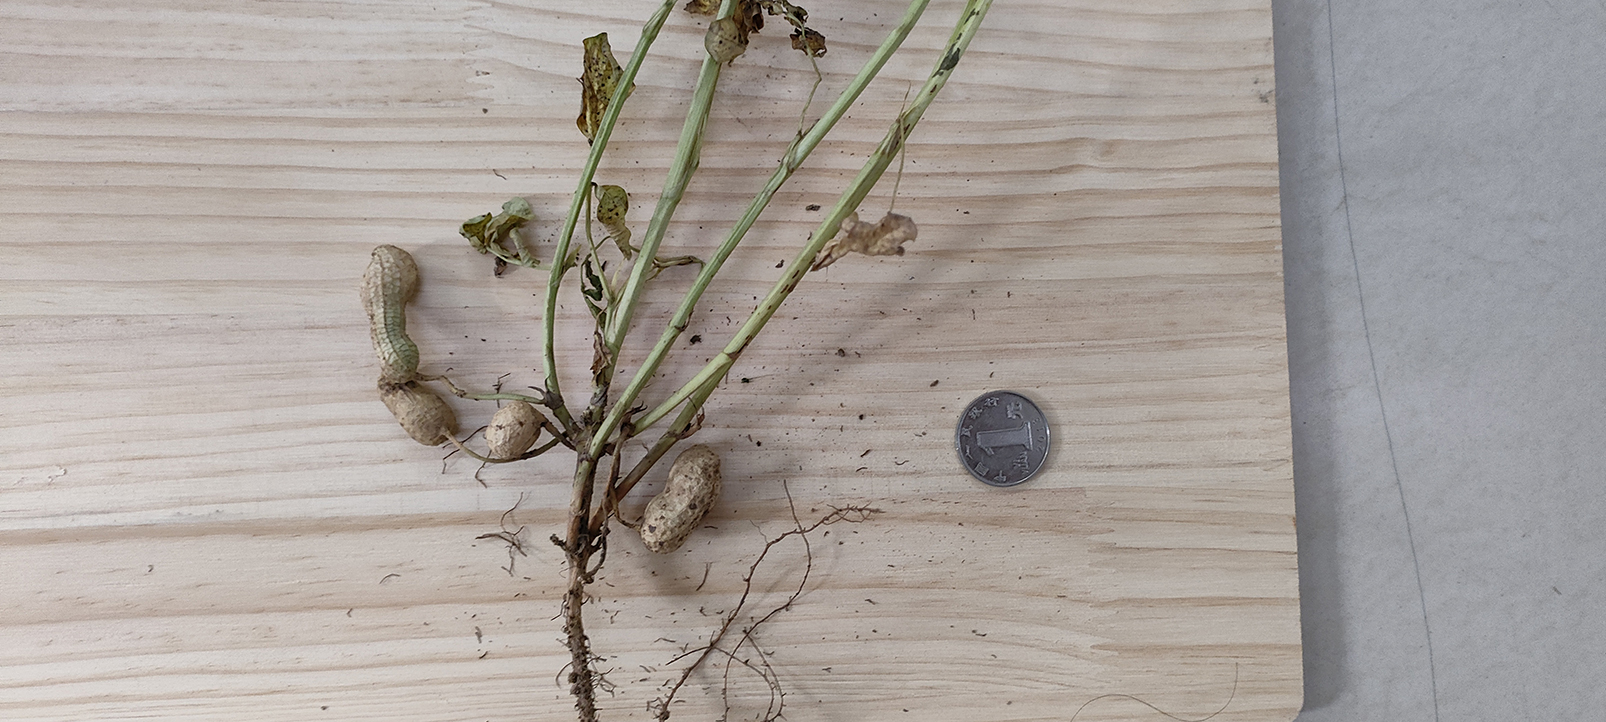h: (360, 241, 421, 384), (638, 447, 718, 555), (375, 379, 460, 445), (482, 400, 540, 460)
